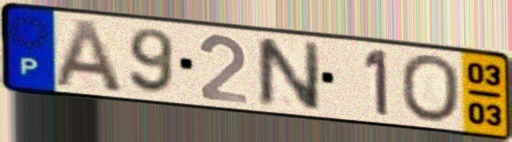1: (361, 48, 394, 119)
2: (195, 32, 253, 107)
9: (126, 25, 176, 97)
A: (51, 17, 128, 95)
N: (252, 35, 323, 114)
O: (398, 52, 463, 125)
